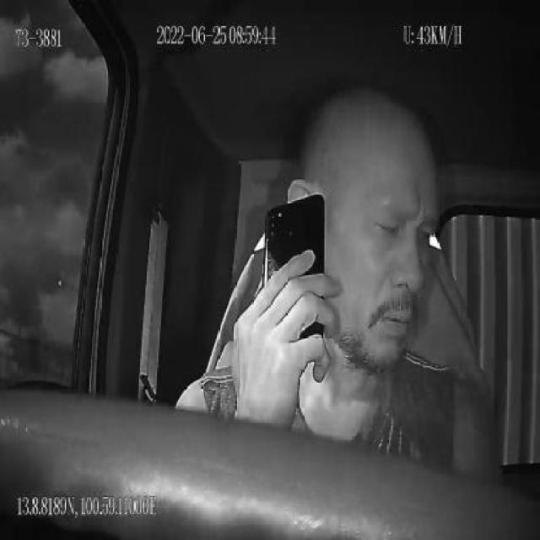phone: (262, 193, 326, 377)
